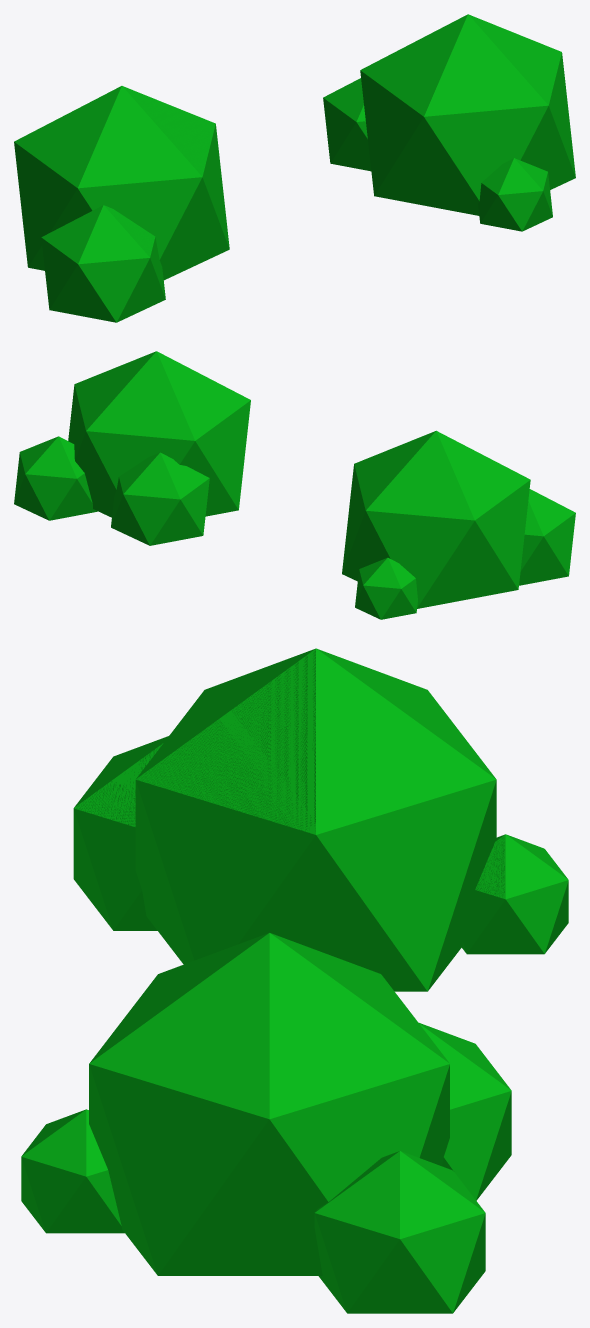
File: Bushes.fbx
The picture shows the model from 3 angles, top to bottom: view 1: azimuth 30°, elevation 25°; view 2: azimuth 150°, elevation 25°; view 3: azimuth 270°, elevation 25°; orthographic projection. The views are drawn at different scales.
Parts seen in each view (by area): view 1: bush2, bush1; view 2: bush2, bush1; view 3: bush2, bush1.
Boxes of the visible parts, left/top/right/bottom form: bush2: left=323, top=14, right=575, bottom=231; bush1: left=14, top=86, right=229, bottom=322; bush2: left=14, top=351, right=250, bottom=545; bush1: left=342, top=430, right=575, bottom=619; bush2: left=21, top=933, right=511, bottom=1313; bush1: left=73, top=648, right=568, bottom=991.
Bounding box in the file's own units: 6325 × 1810 × 3039.
